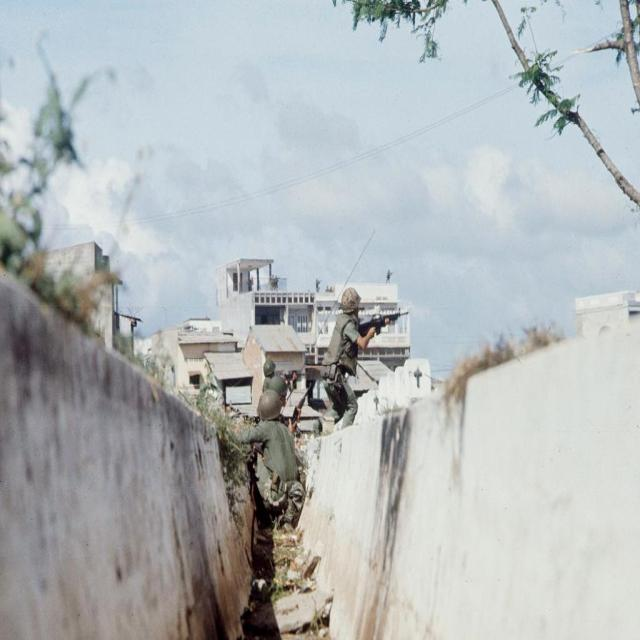Weapon: (349, 288, 425, 361), (254, 378, 318, 448)
